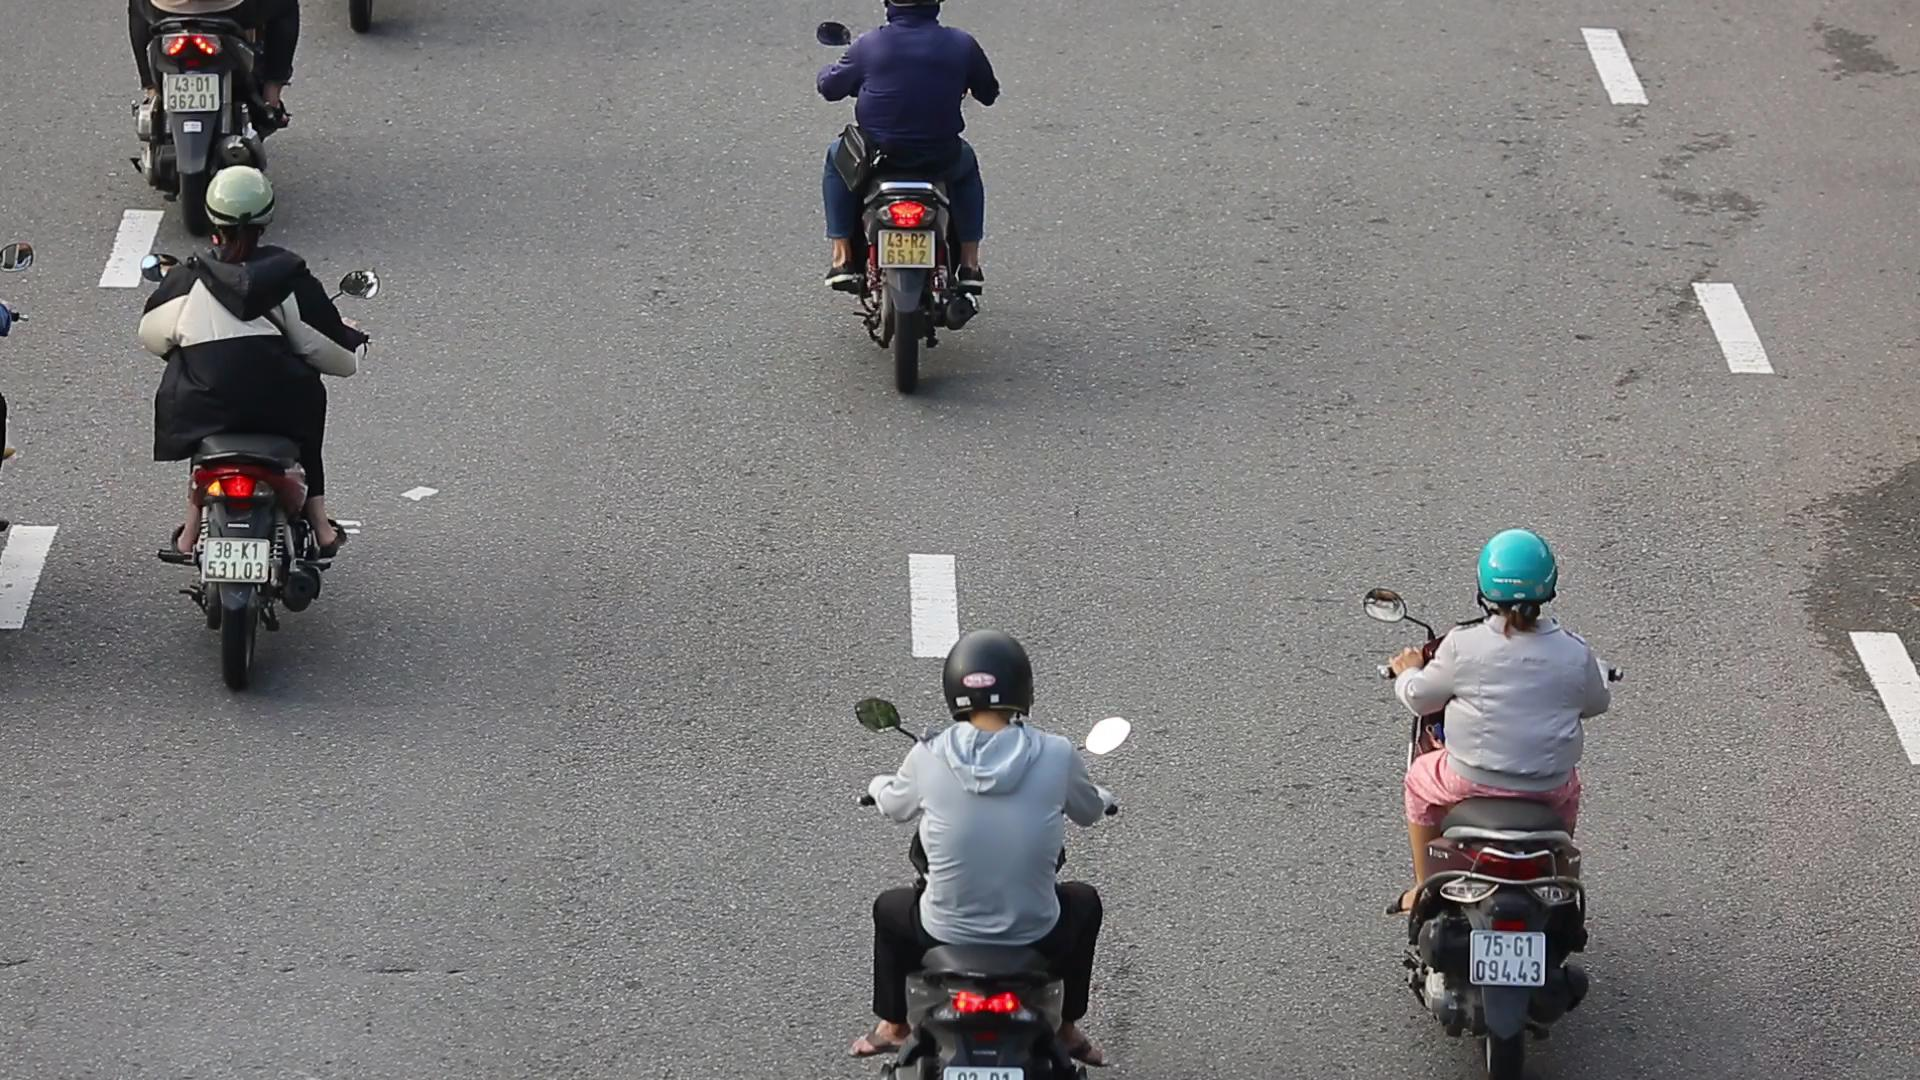motobike: (1365, 522, 1631, 1080), (144, 162, 388, 683)
